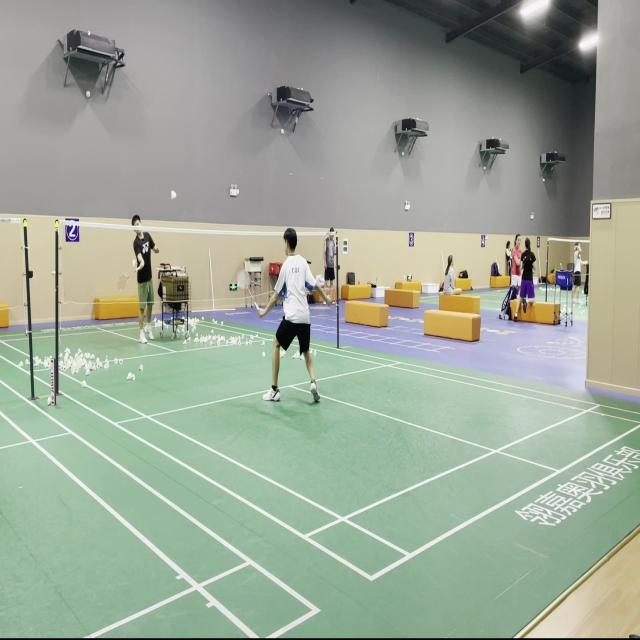shuttlecock: (170, 190, 177, 200)
